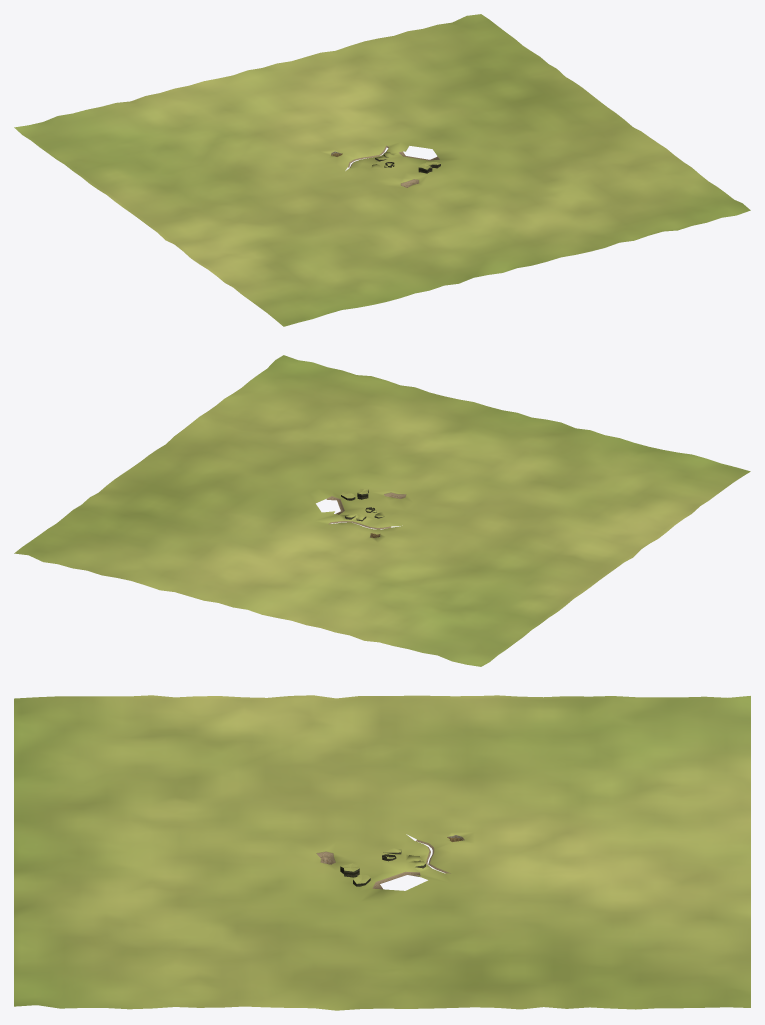
Rendered from terrain.fbx.
3 views of the same model, one above another, from view 1: azimuth 30°, elevation 25°; view 2: azimuth 150°, elevation 25°; view 3: azimuth 270°, elevation 25° (orthographic). The views are drawn at different scales.
Parts seen in each view (by area): view 1: terrain; view 2: terrain; view 3: terrain.
Boxes of the visible parts, <box> form: terrain: <box>14,14,750,326</box>; terrain: <box>14,355,750,666</box>; terrain: <box>14,695,750,1010</box>.
Bounding box in the file's own units: 345699 × 5009 × 345699.
